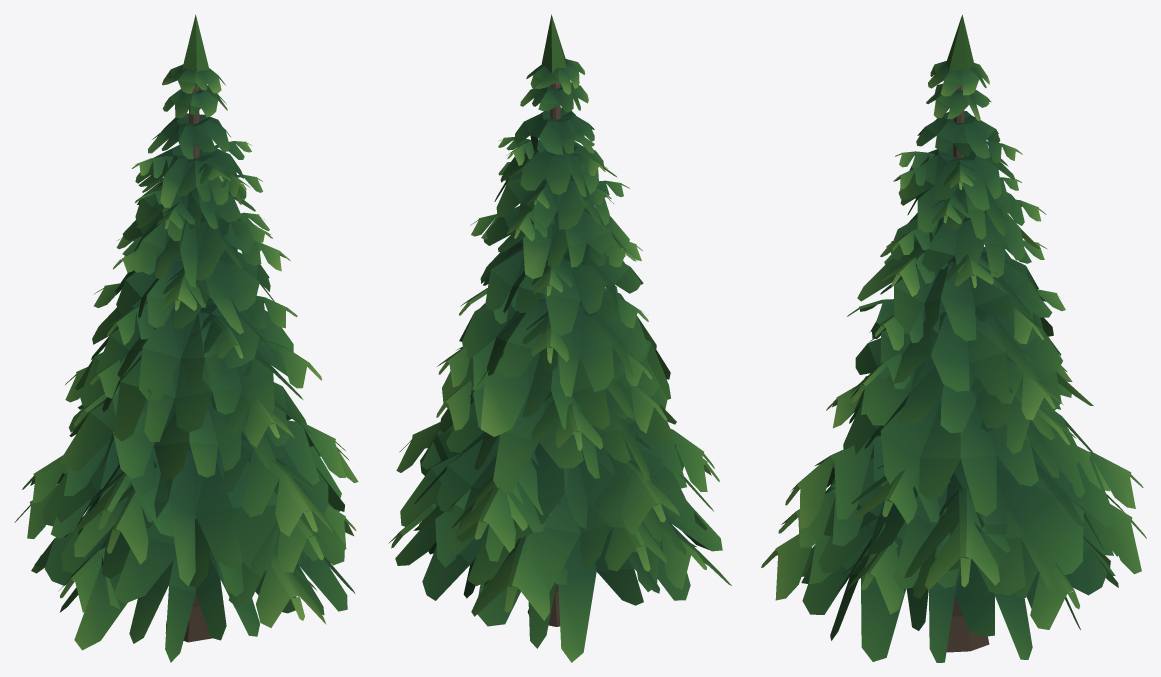
The model's file is spruce_M_normal_std_s9.glb.
3 views of the same model, side by side, from view 1: azimuth 30°, elevation 25°; view 2: azimuth 150°, elevation 25°; view 3: azimuth 270°, elevation 25° (orthographic). The views are drawn at different scales.
Visible parts, largest first — view 1: Tree; view 2: Tree; view 3: Tree.
Boxes of the visible parts, <box> form: Tree: <box>14,14,358,662</box>; Tree: <box>388,14,731,662</box>; Tree: <box>761,14,1146,662</box>.
Size of what is drawn, in the model's own units: 3.12 by 5.97 by 3.33.
